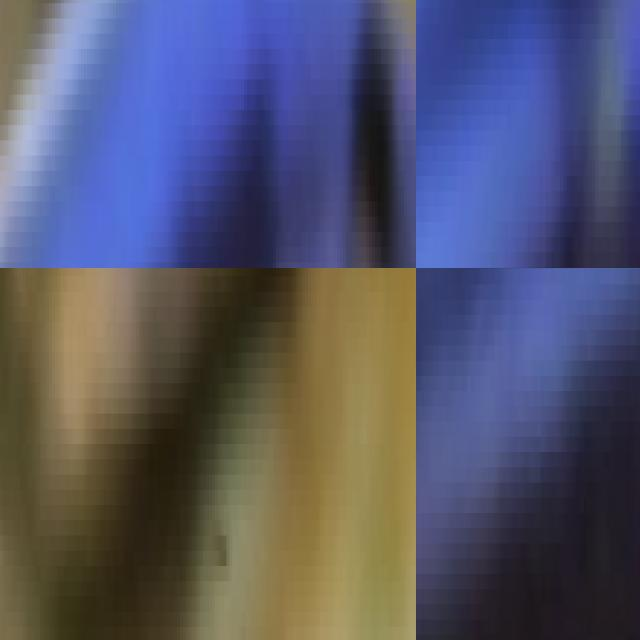fish: (0, 0, 416, 268), (416, 268, 640, 640)
